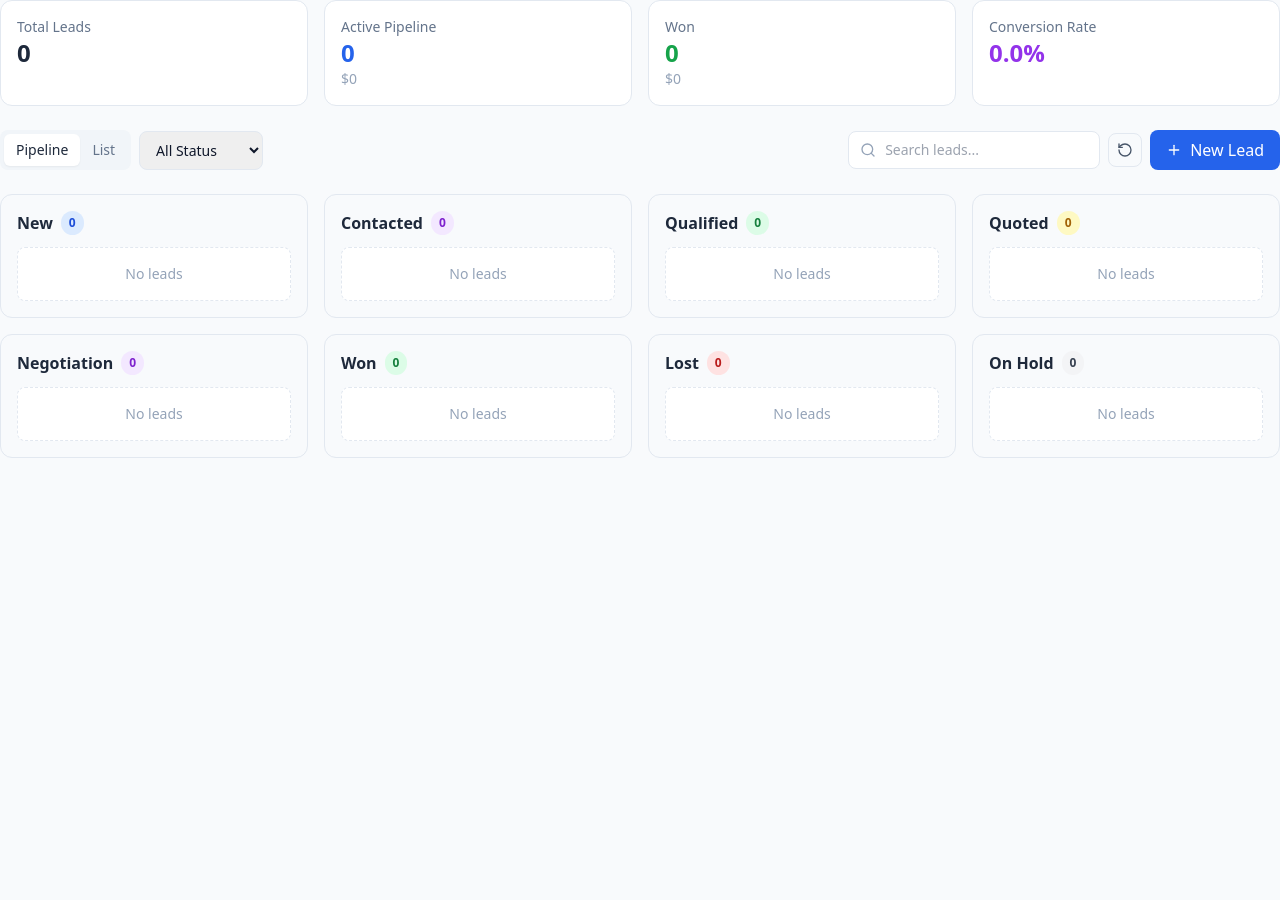
it: LeadPipelineView › creates a lead through the live create modal and refreshes the list
Expected: the text "Active Pipeline" is shown, [341, 17, 436, 36]
Click the button "New Lead": (1215, 150) [1150, 130, 1279, 170]
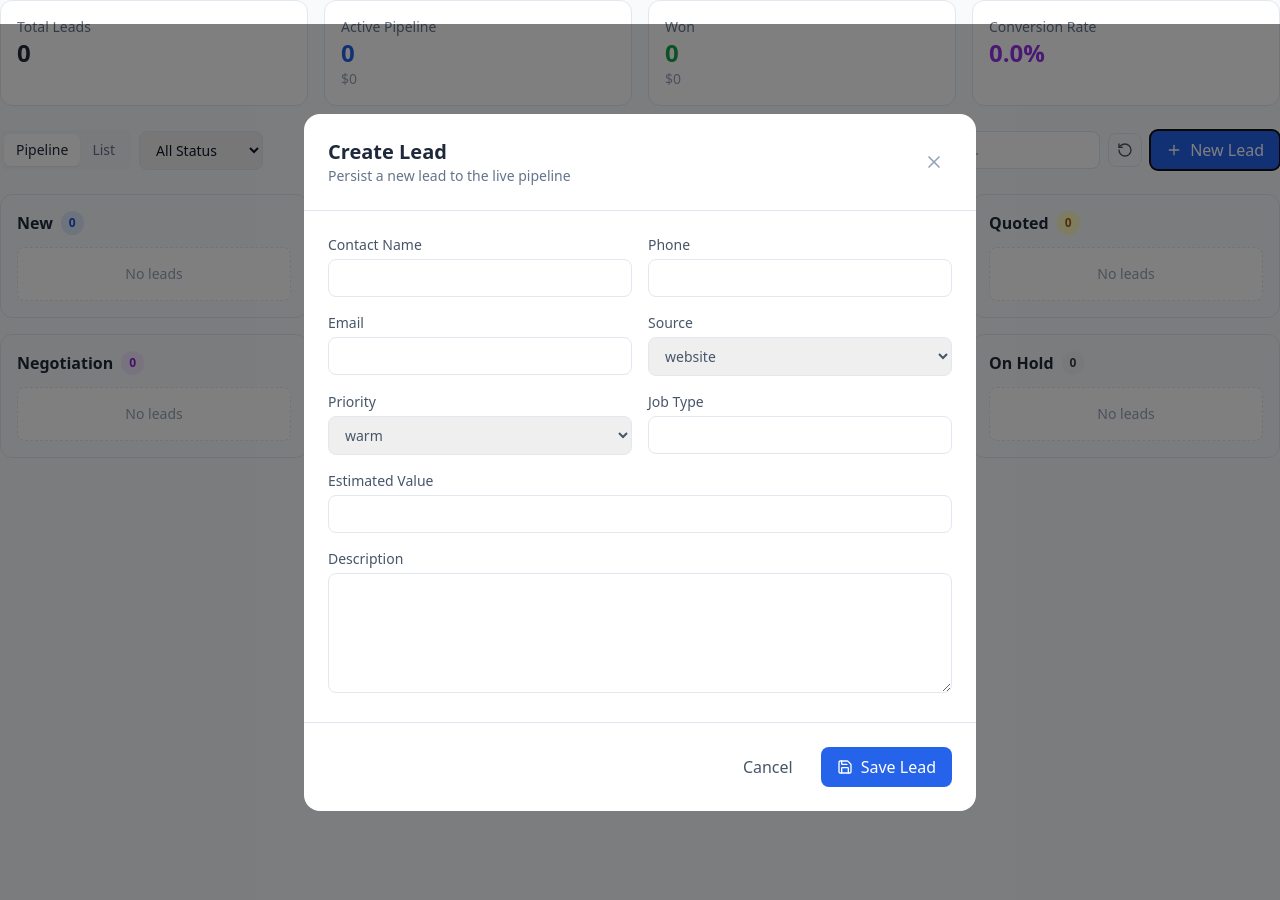
In the field labelled "Contact Name": (480, 278) [328, 258, 632, 296], type "Jamie Builder"
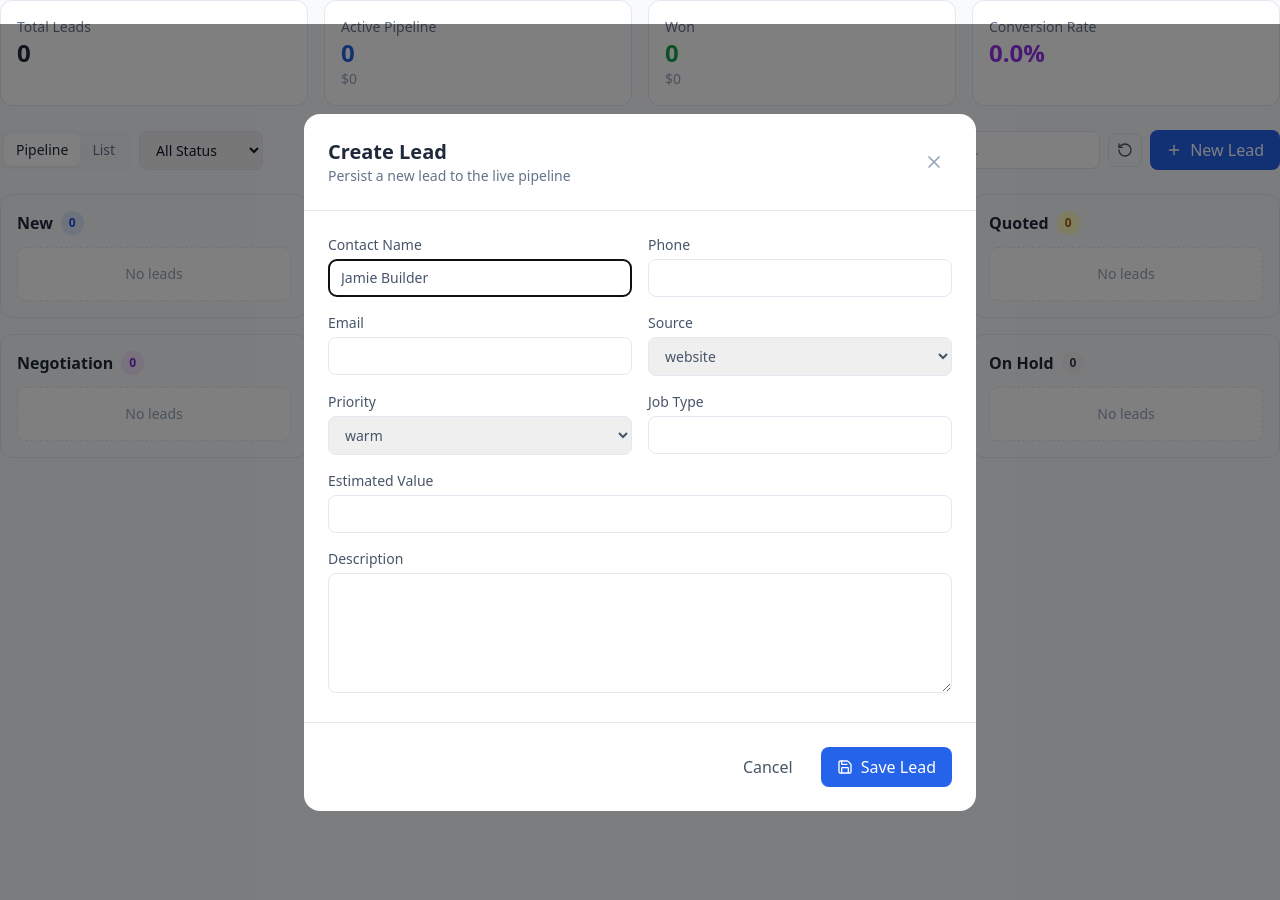
In the field labelled "Phone": (800, 278) [648, 258, 952, 296], type "0411222333"
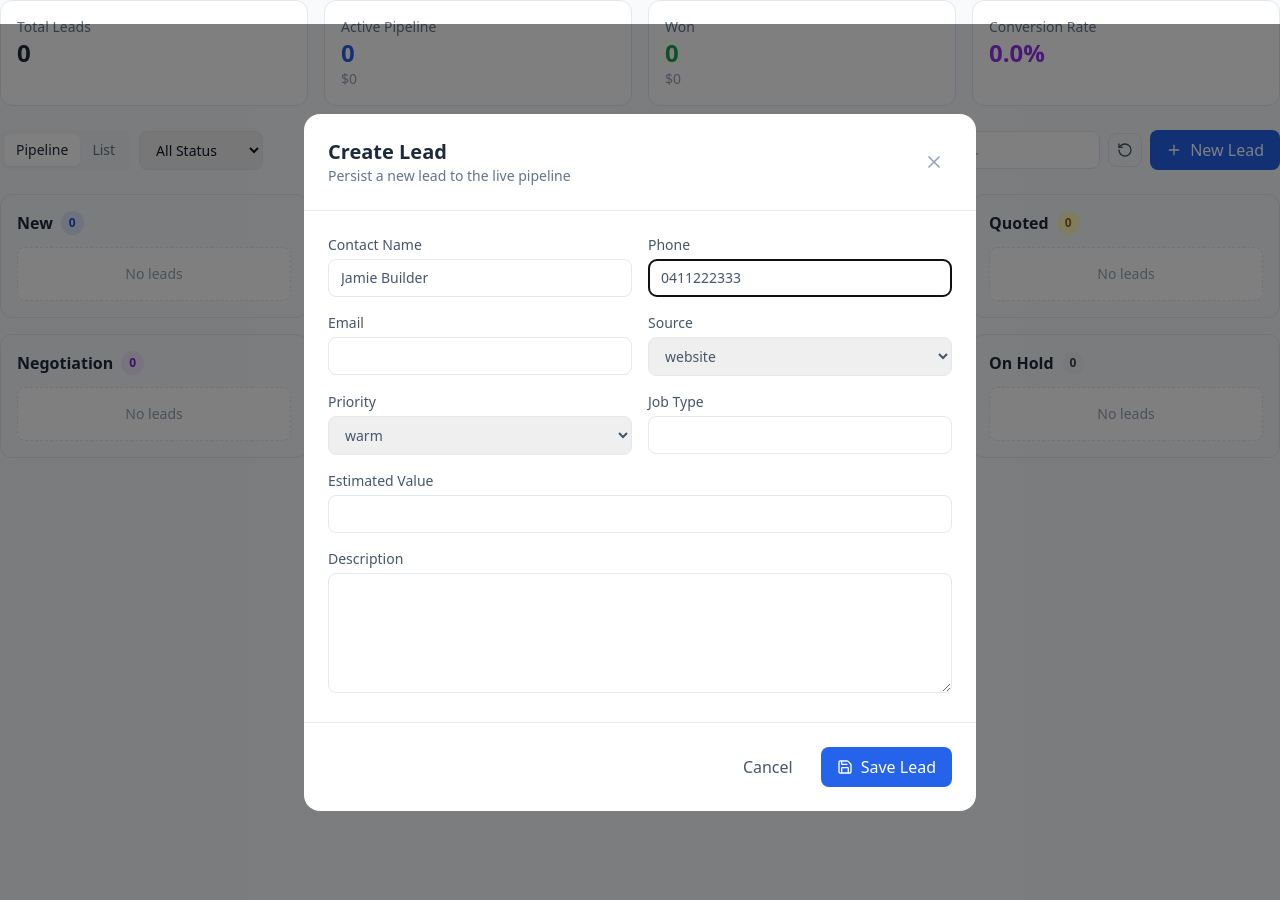
In the number field labelled "Estimated Value": (640, 514) [328, 494, 952, 532], type "2500"
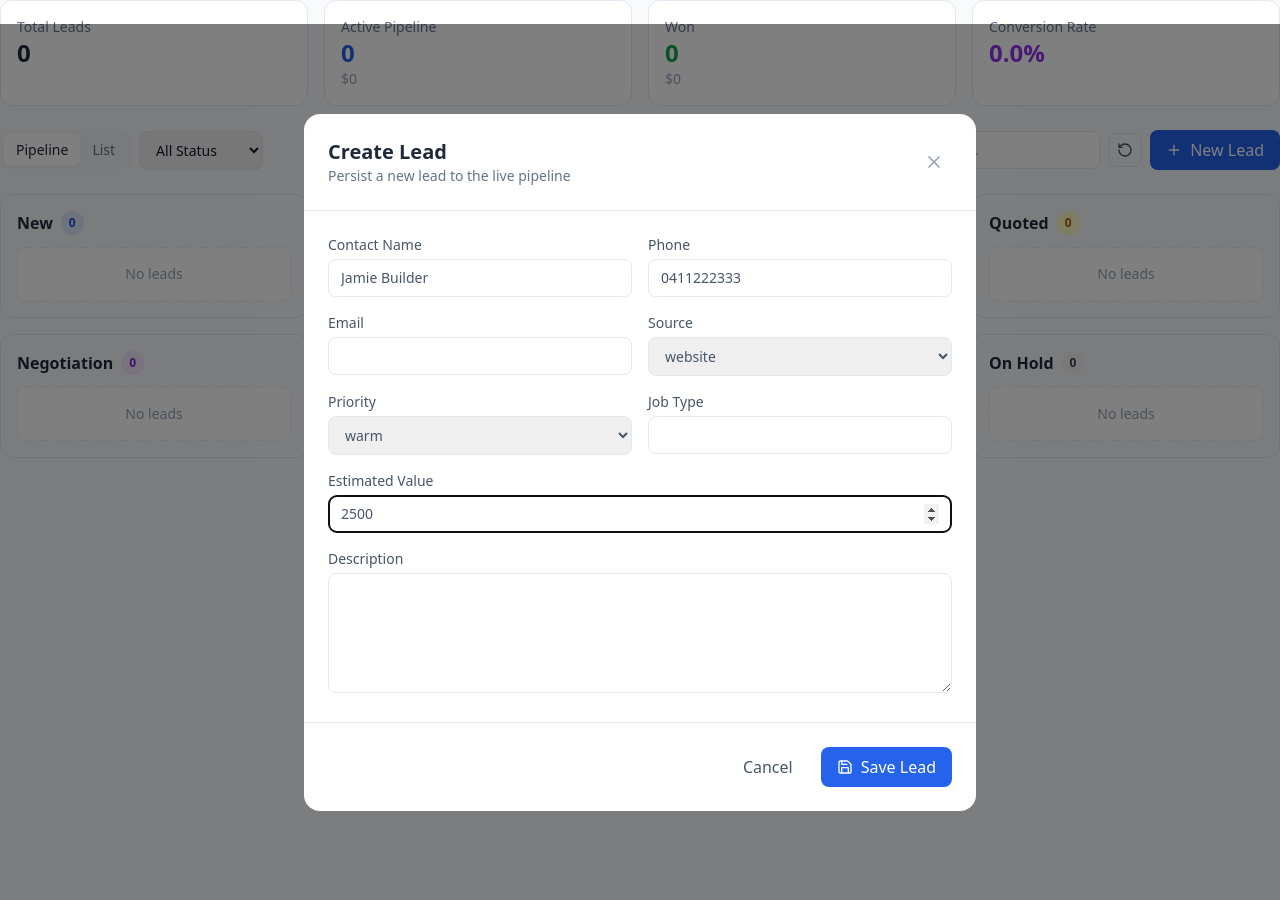
Click the button "Save Lead": (886, 766) [821, 746, 952, 786]
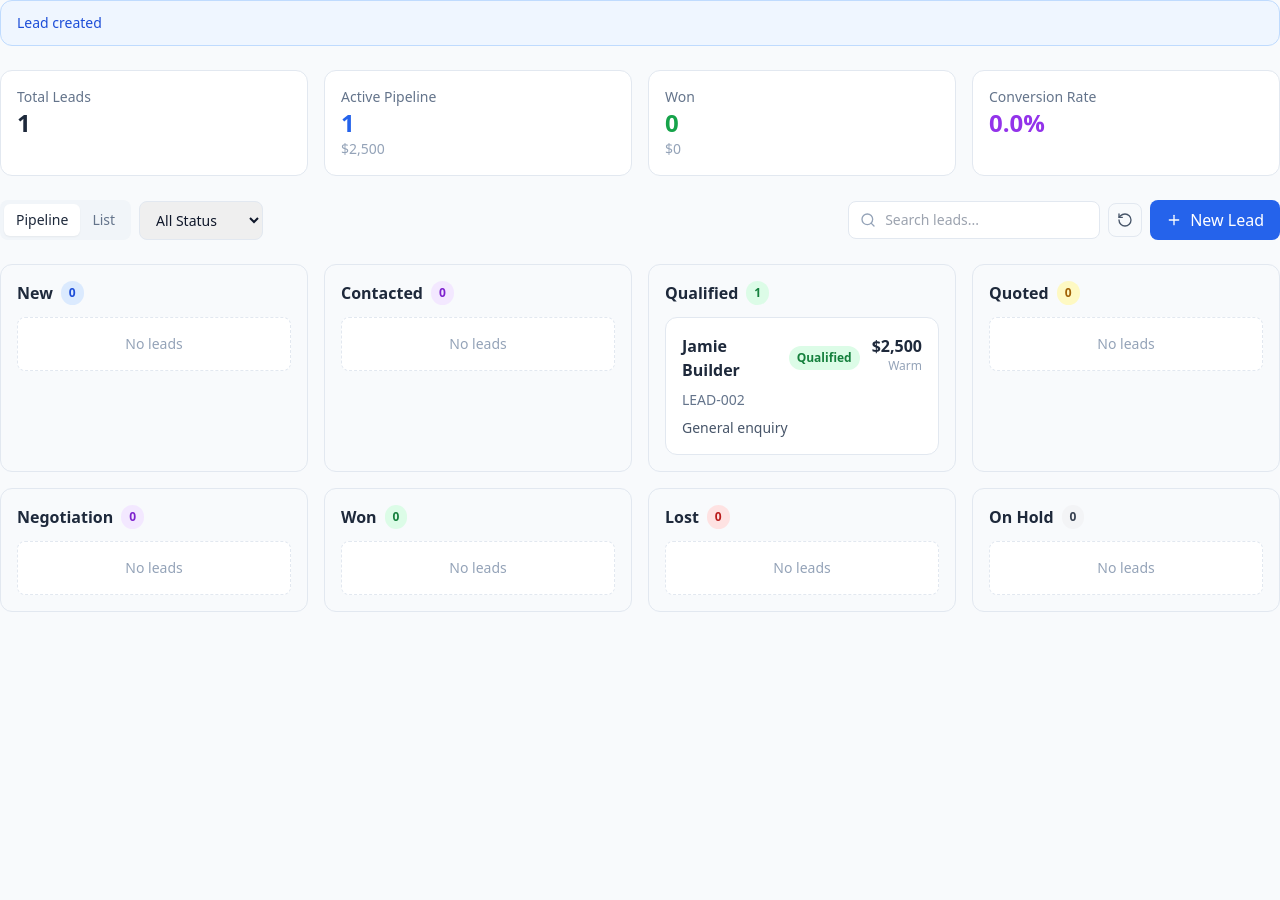
Expected: the text "Lead created" is shown, [0, 0, 1279, 46]
Expected: the text "Jamie Builder" is shown, [682, 335, 740, 381]
